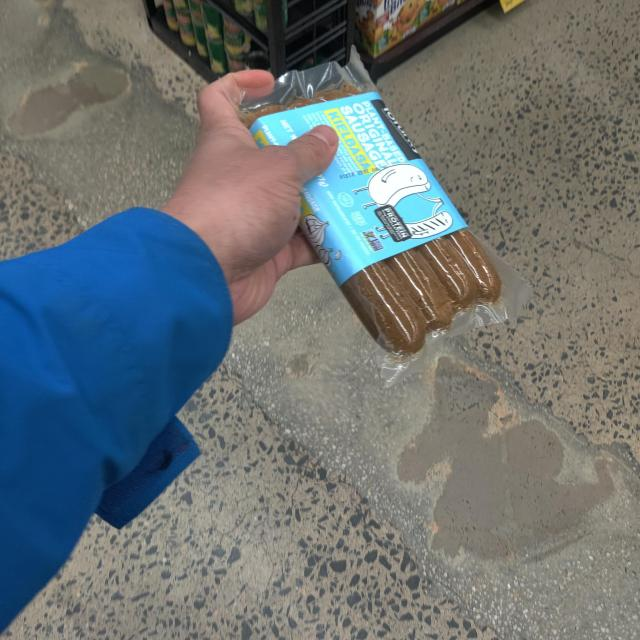Meat: (212, 47, 535, 372)
